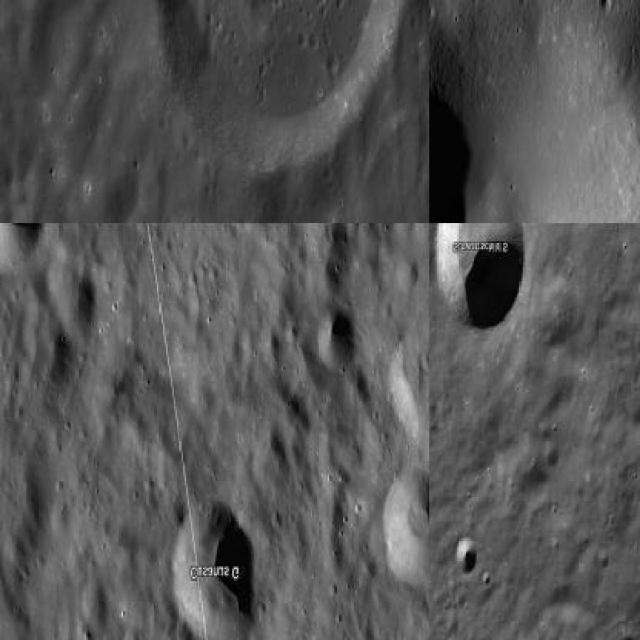crater: (431, 0, 640, 222), (152, 0, 416, 168), (174, 498, 257, 638), (435, 223, 528, 332), (385, 463, 429, 585), (393, 311, 430, 454), (317, 303, 357, 371), (457, 537, 478, 572)
